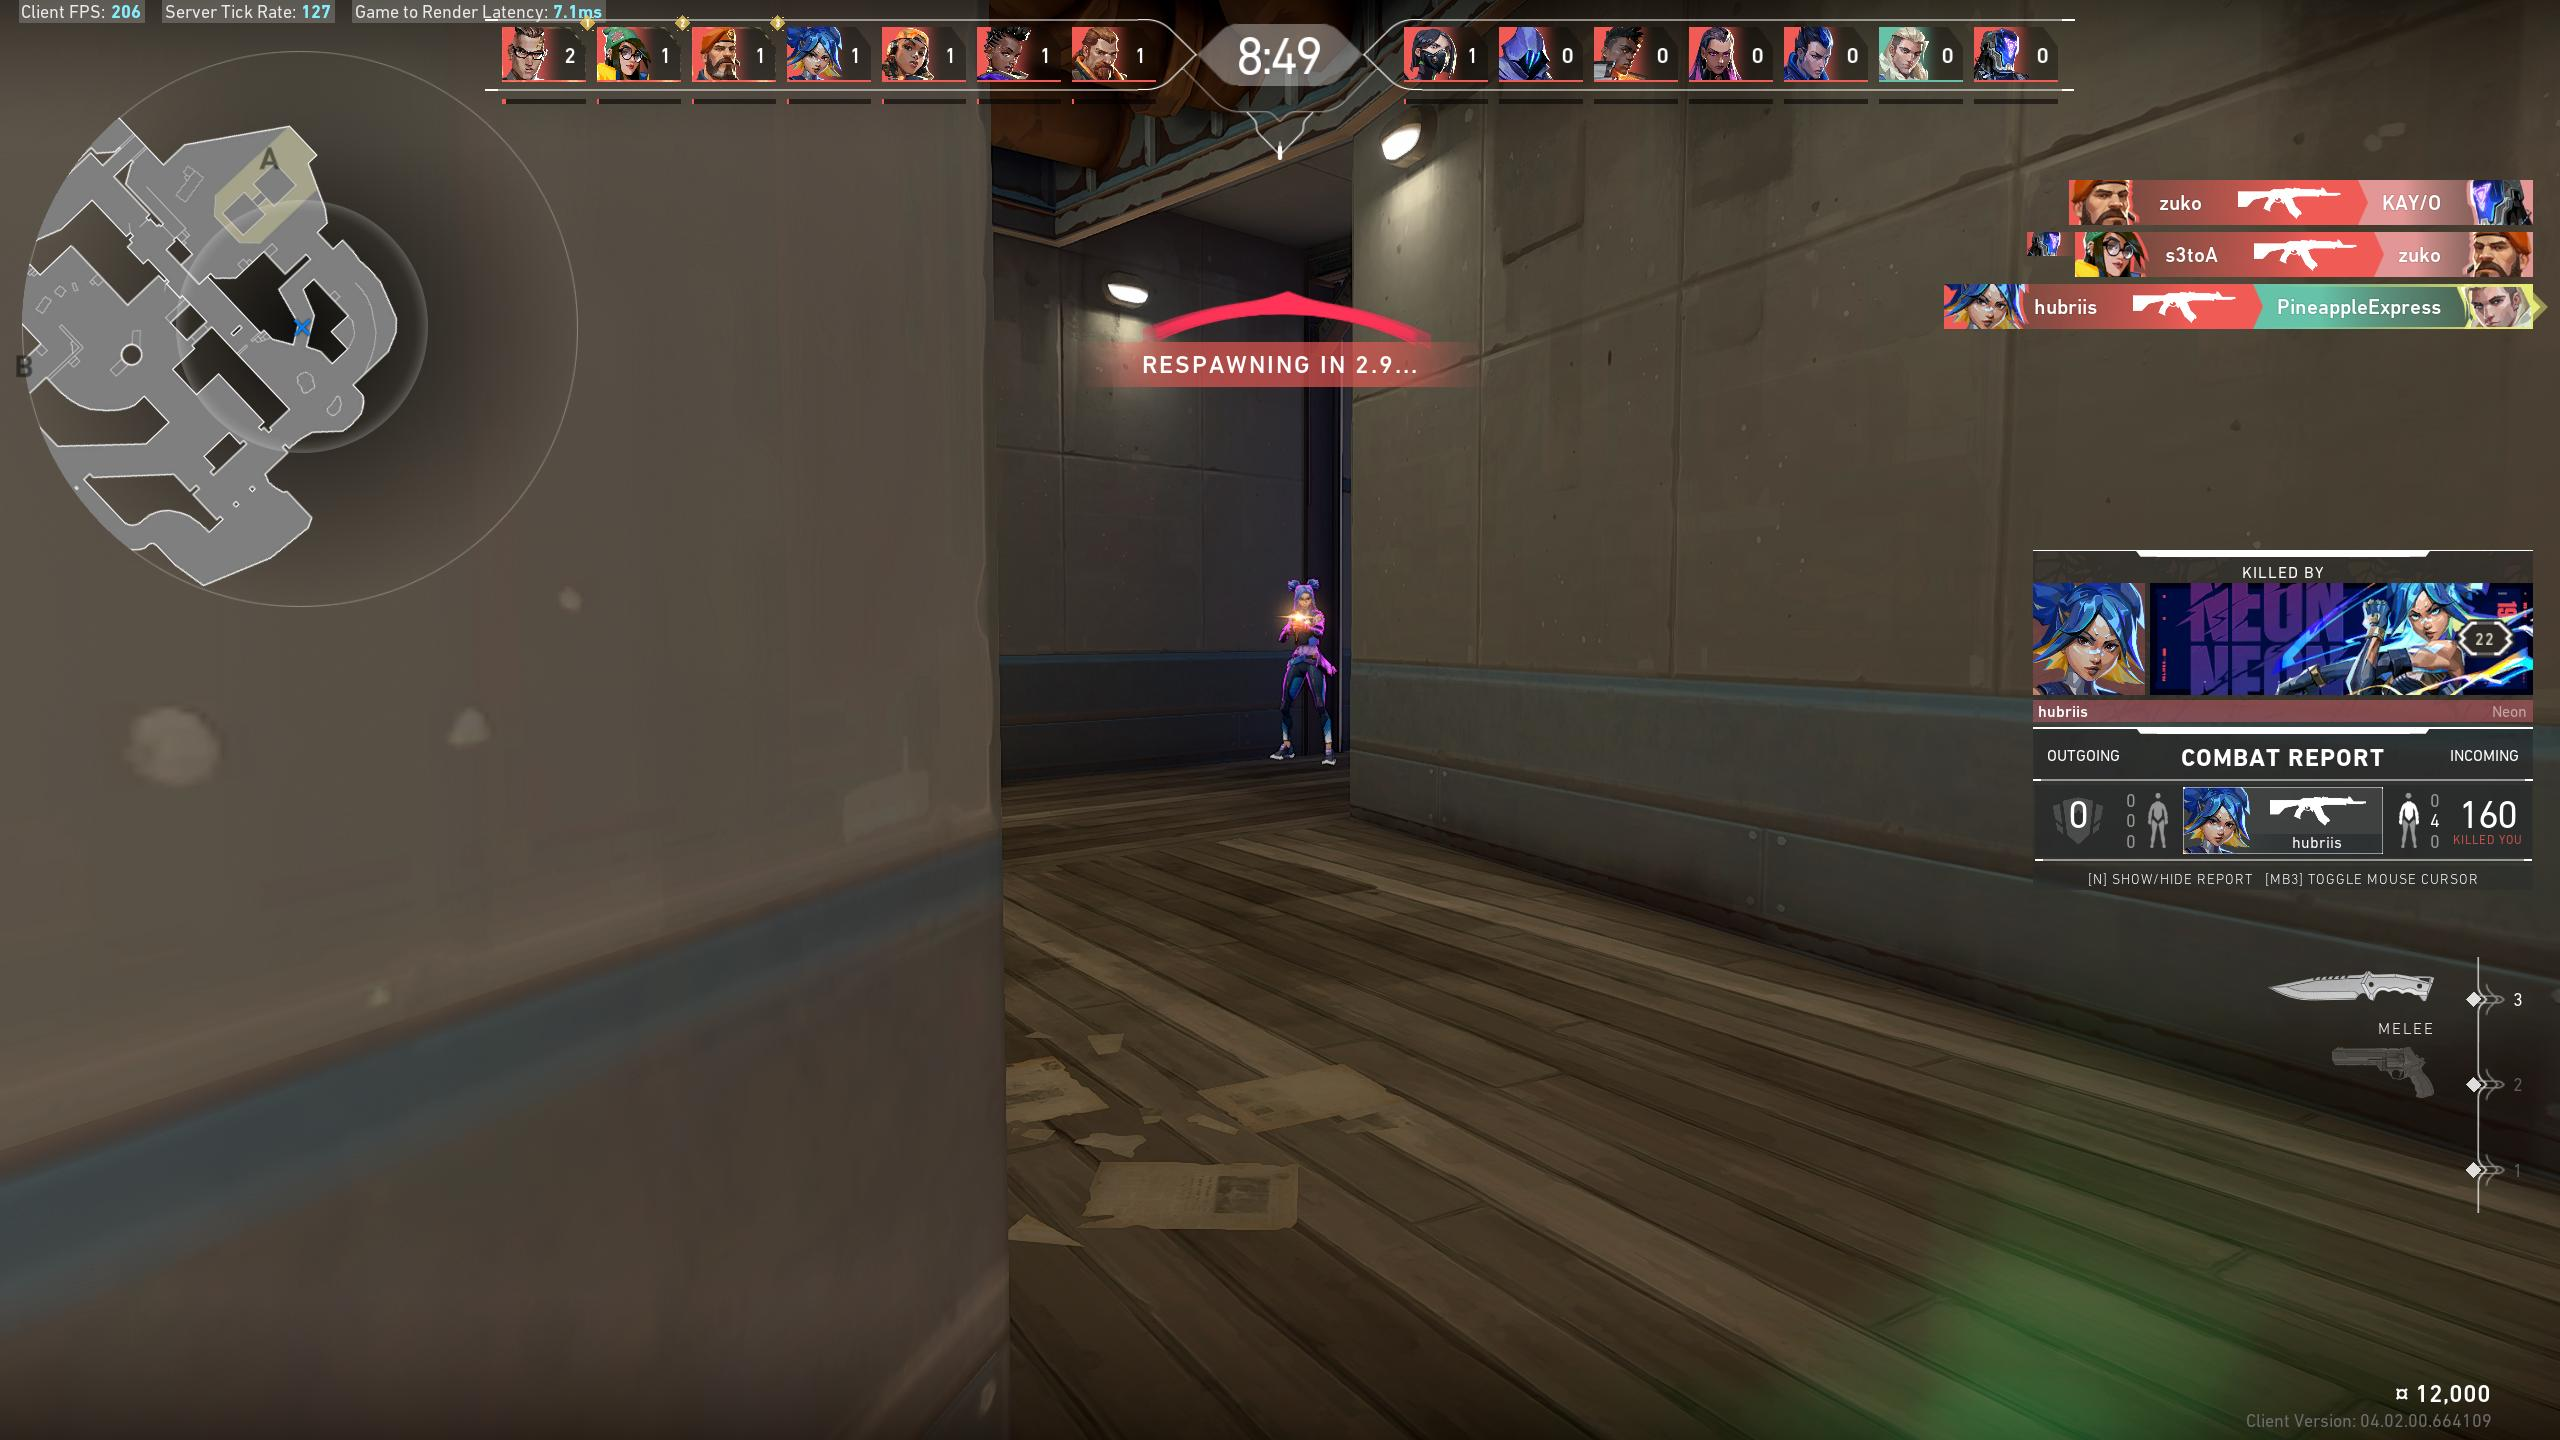enemyBody: (1298, 615, 1317, 651)
enemyHead: (1298, 587, 1313, 610)
